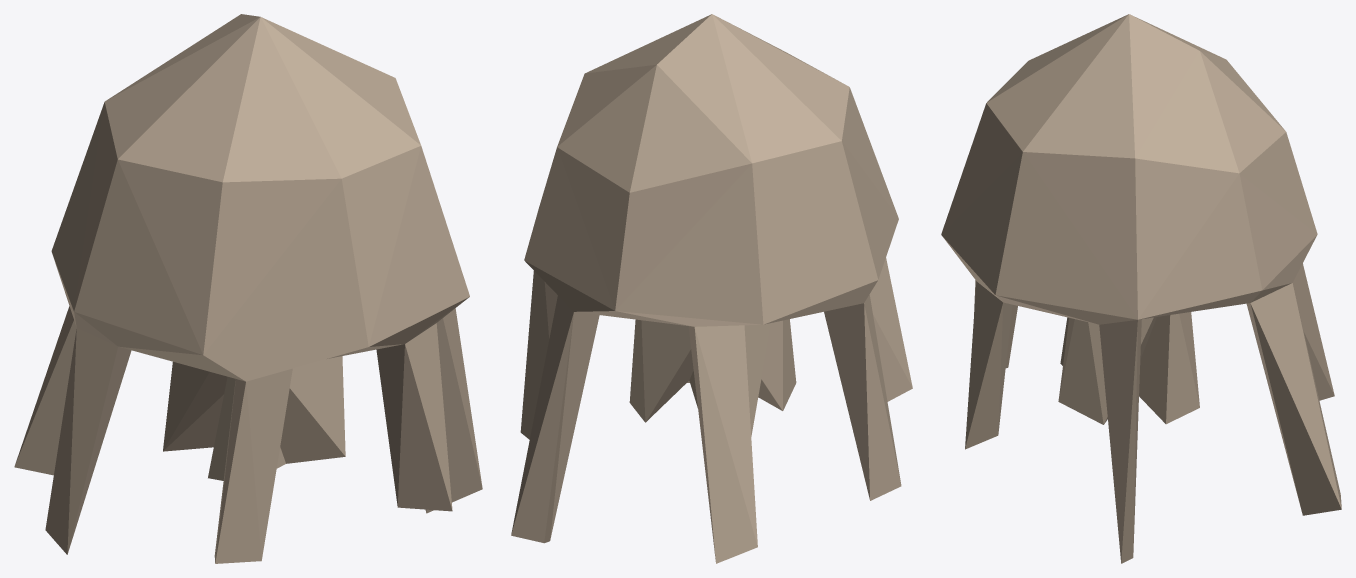
The picture shows the model from 3 angles, left to right: view 1: azimuth 30°, elevation 25°; view 2: azimuth 150°, elevation 25°; view 3: azimuth 270°, elevation 25°; orthographic projection. The views are drawn at different scales.
Parts seen in each view (by area): view 1: part0; view 2: part0; view 3: part0.
Boxes of the visible parts, x1,y1,x2,y2 form: part0: [14, 14, 482, 563]; part0: [511, 14, 912, 563]; part0: [941, 14, 1341, 563].
Size of the model in its own units: 4.79 by 5.88 by 4.52.
